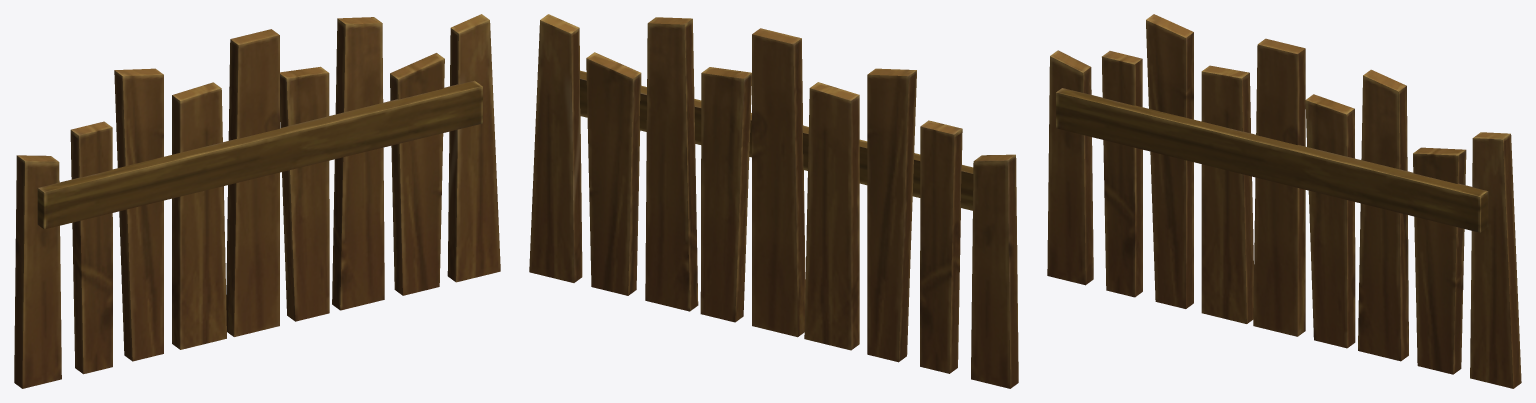
File: Stage_CaoYuan_LiBa.FBX
3 views of the same model, side by side, from view 1: azimuth 30°, elevation 25°; view 2: azimuth 150°, elevation 25°; view 3: azimuth 330°, elevation 25° (orthographic). The views are drawn at different scales.
Parts seen in each view (by area): view 1: Stage_CaoYuan_LiBa; view 2: Stage_CaoYuan_LiBa; view 3: Stage_CaoYuan_LiBa.
Boxes of the visible parts, <box> form: Stage_CaoYuan_LiBa: <box>14,14,500,388</box>; Stage_CaoYuan_LiBa: <box>529,14,1018,388</box>; Stage_CaoYuan_LiBa: <box>1047,14,1521,388</box>.
Bounding box in the file's own units: 205 × 119 × 12.4.
